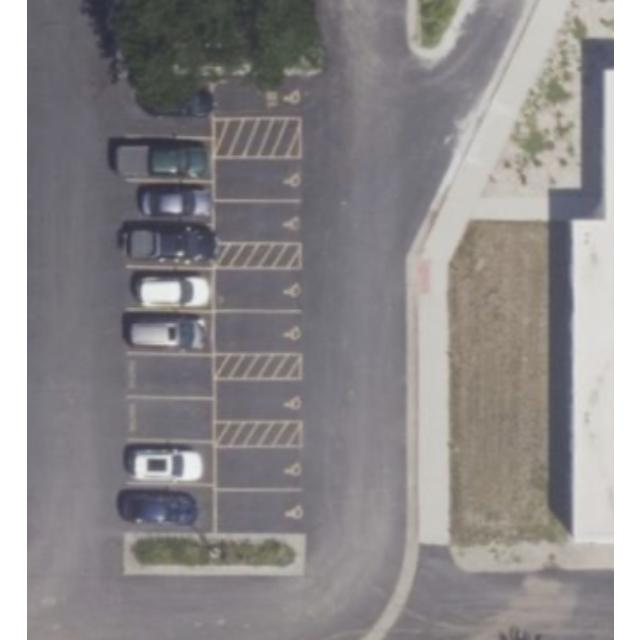Empty: (211, 73, 303, 119), (211, 490, 305, 534), (124, 397, 213, 441), (212, 446, 302, 489), (125, 354, 212, 398), (215, 157, 301, 200), (215, 268, 302, 310), (214, 200, 300, 242), (214, 381, 302, 422), (214, 312, 302, 352)
Parked: (122, 484, 216, 532), (113, 180, 214, 224), (113, 136, 213, 180), (117, 225, 213, 268), (120, 442, 214, 484), (120, 268, 212, 310), (122, 312, 212, 354), (134, 77, 210, 116)
